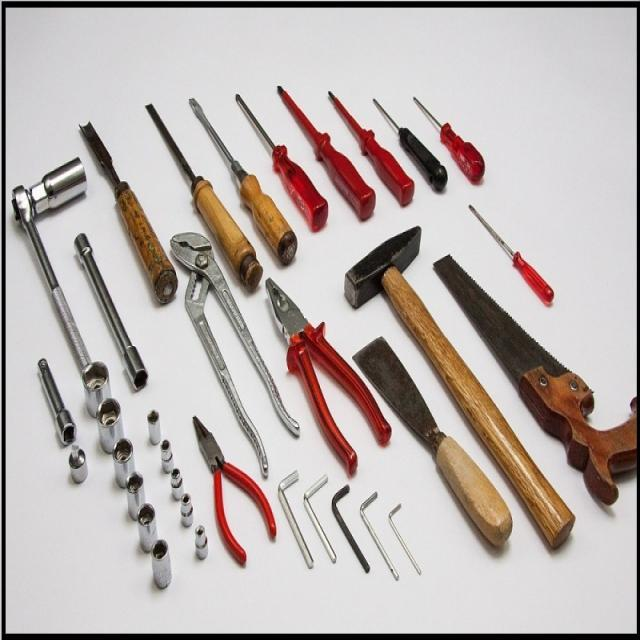hammer: (342, 222, 578, 552)
screwdriver: (274, 78, 385, 224), (232, 88, 331, 228), (327, 87, 418, 210), (467, 202, 556, 310), (372, 93, 451, 193), (412, 92, 485, 186)
